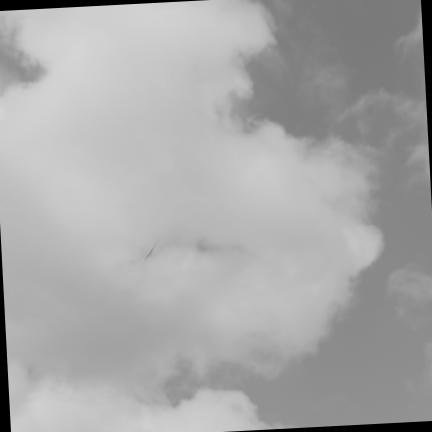Shahed: (144, 241, 158, 260)
